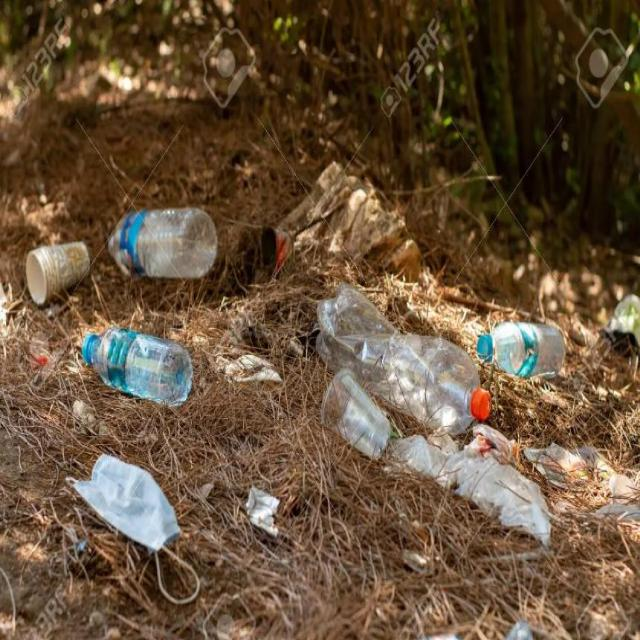bottle: (311, 268, 493, 454), (68, 314, 192, 422), (104, 199, 228, 293), (469, 316, 580, 386)
